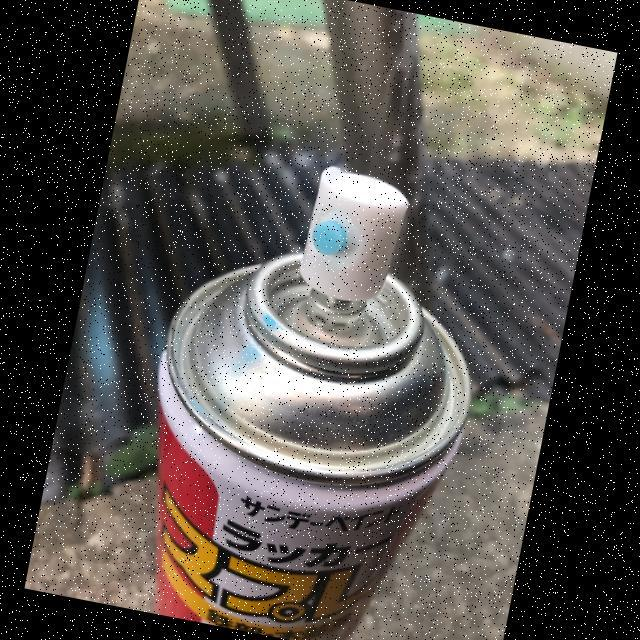chemical_spray_can: (154, 165, 470, 640)
